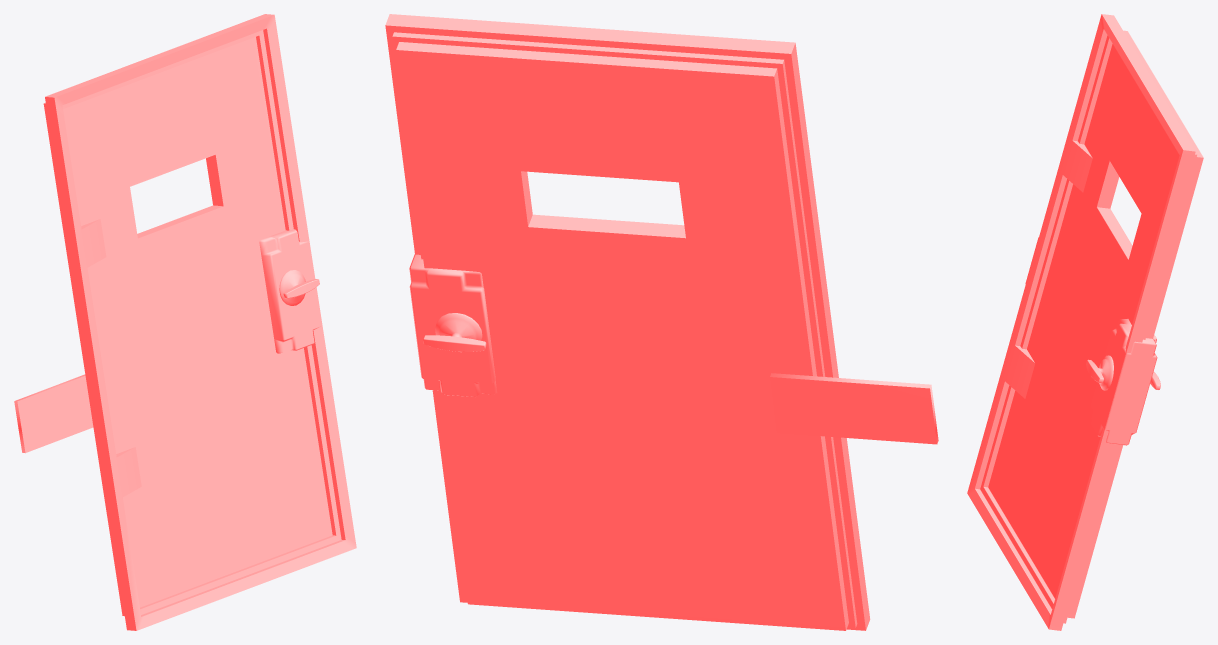
File: doors.fbx
The picture shows the model from 3 angles, left to right: view 1: azimuth 30°, elevation 25°; view 2: azimuth 150°, elevation 25°; view 3: azimuth 270°, elevation 25°; orthographic projection. The views are drawn at different scales.
Parts seen in each view (by area): view 1: Group, default; view 2: Group, default; view 3: Group.
Part boxes in pixels (x1,y1,x2,y2): Group: (43,14,356,630); default: (14,374,93,453); Group: (385,14,870,630); default: (770,373,938,444); Group: (967,14,1203,630).
Bounding box in the file's own units: 0.0152 × 0.0211 × 0.00927.
